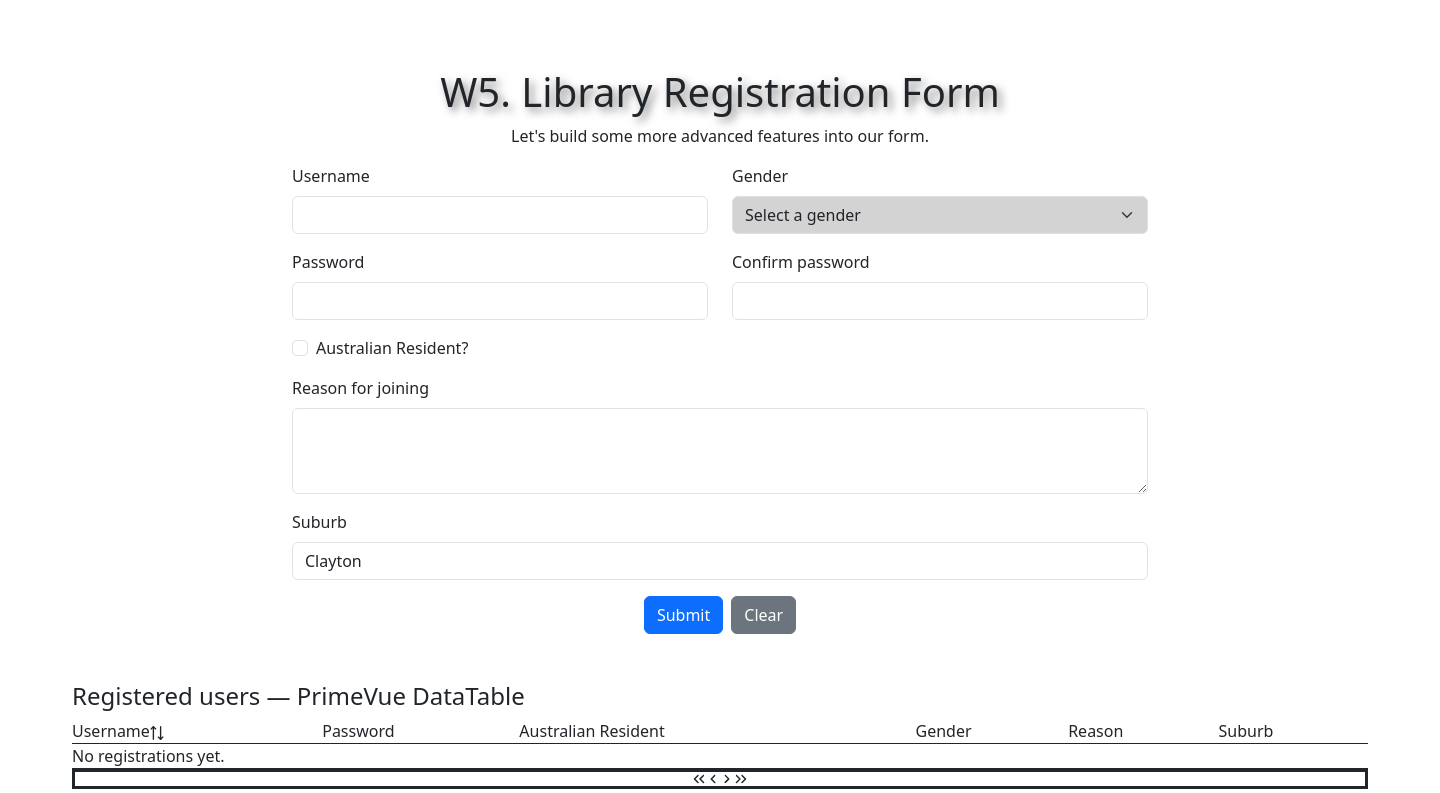
Week 5 registration behavior › blocks a mismatched confirmation on submit without requiring blur
This screenshot has width=1440, height=793.
Type "Dinuo" into the field with id "username" at (500, 215), box left=292, top=196, right=708, bottom=234
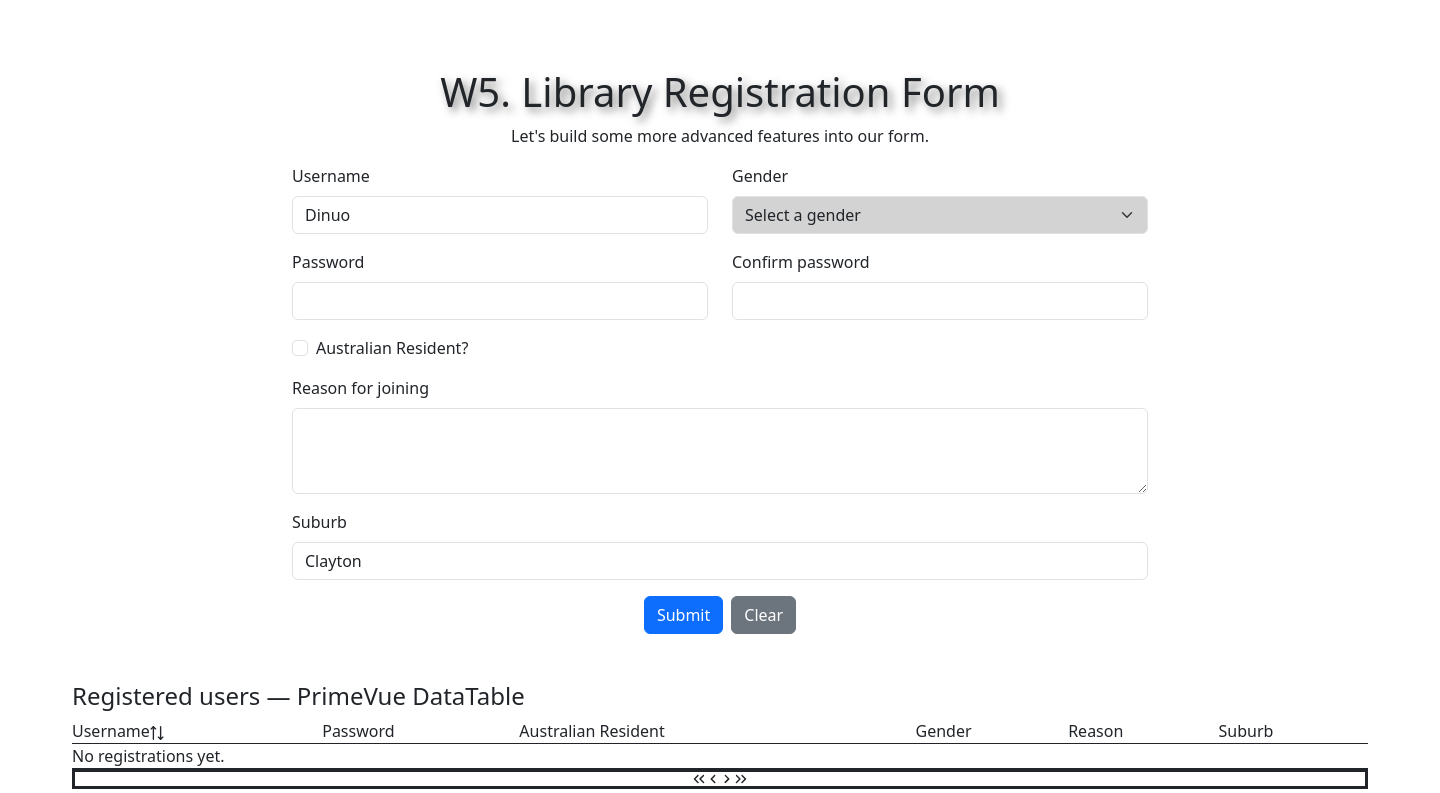
Type "Secure1!" into the password field labelled "Password" at (500, 301), box left=292, top=282, right=708, bottom=320
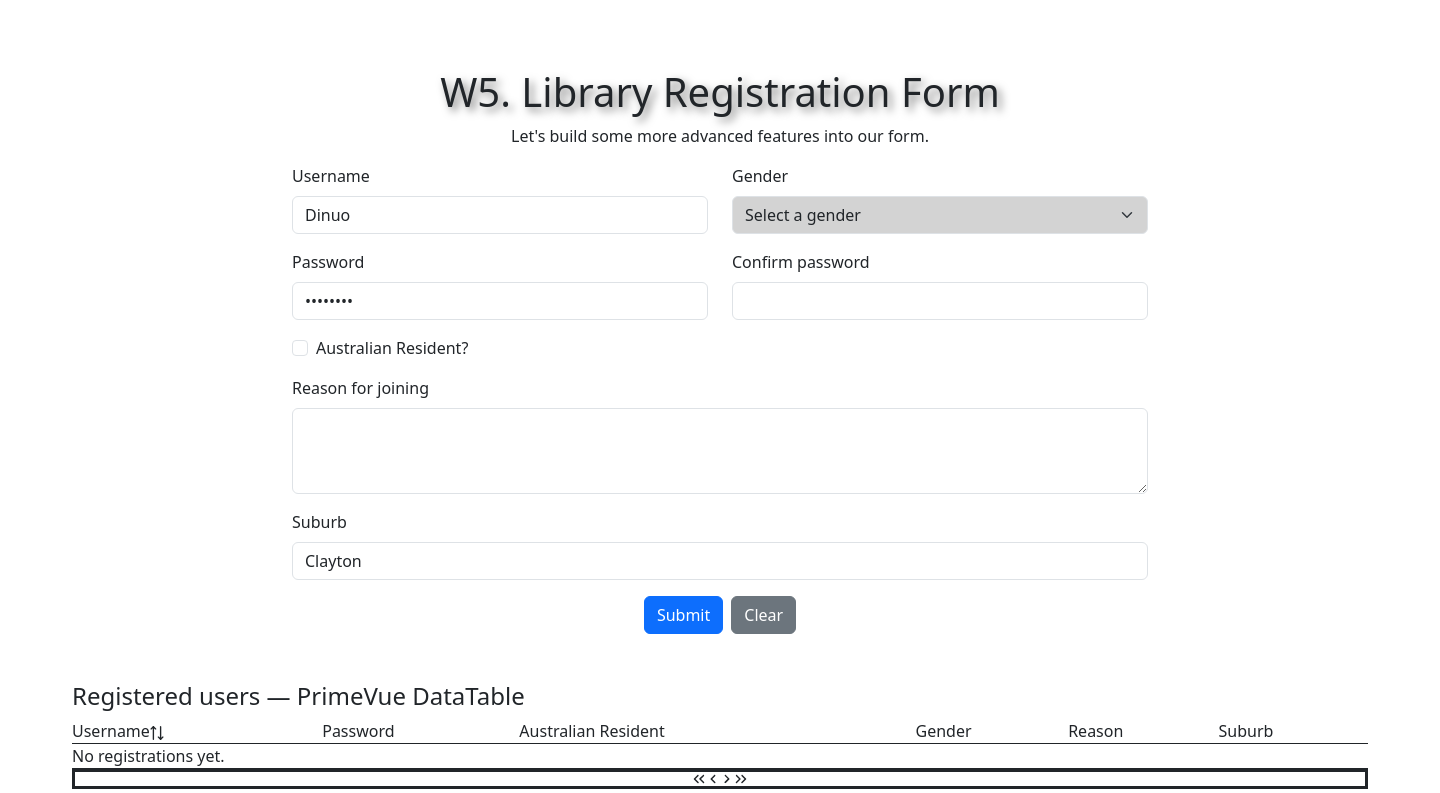
Click the checkbox with id "isAustralian" at (300, 348), box left=292, top=340, right=308, bottom=356
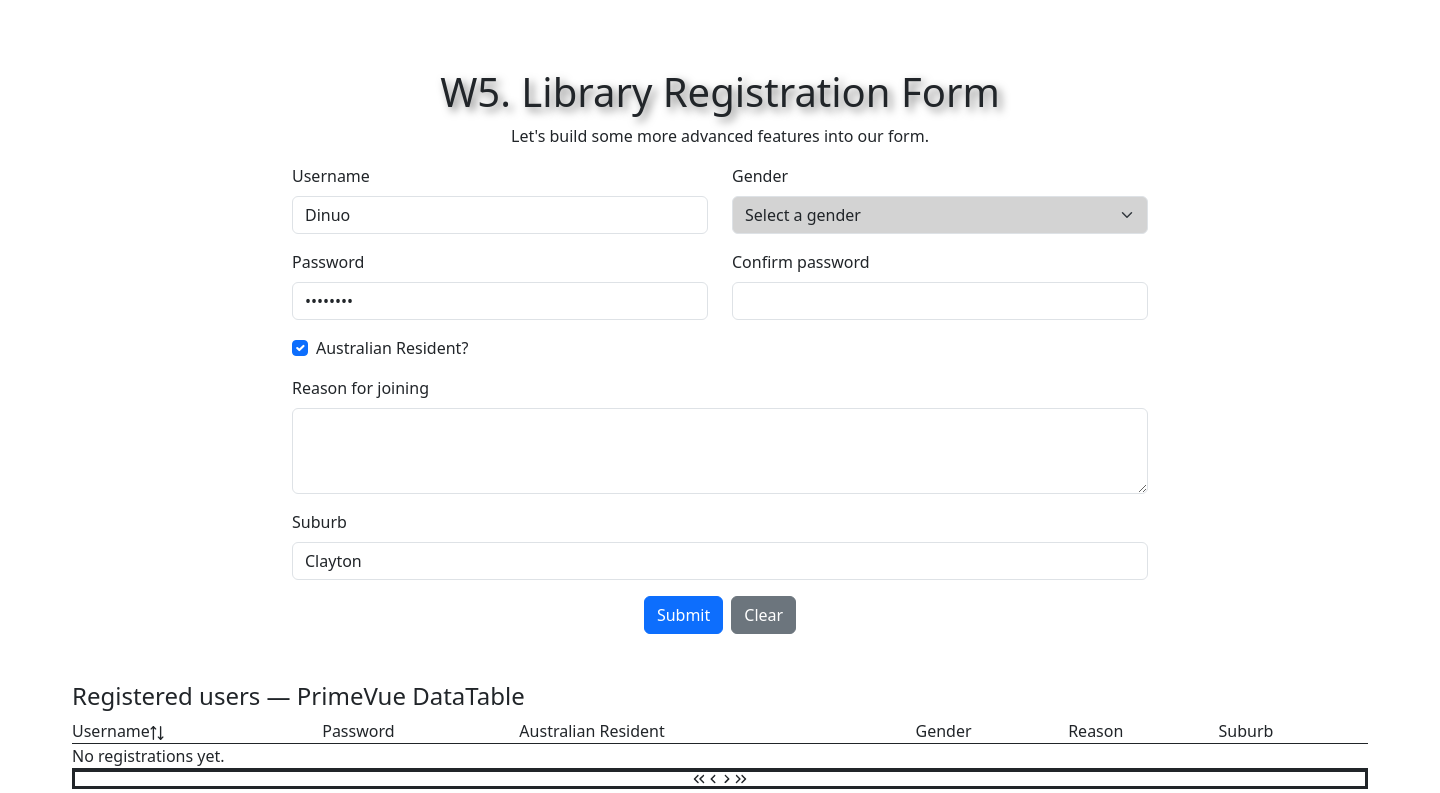
Select "Other" in the dropdown with id "gender" at (940, 215), box left=732, top=196, right=1148, bottom=234
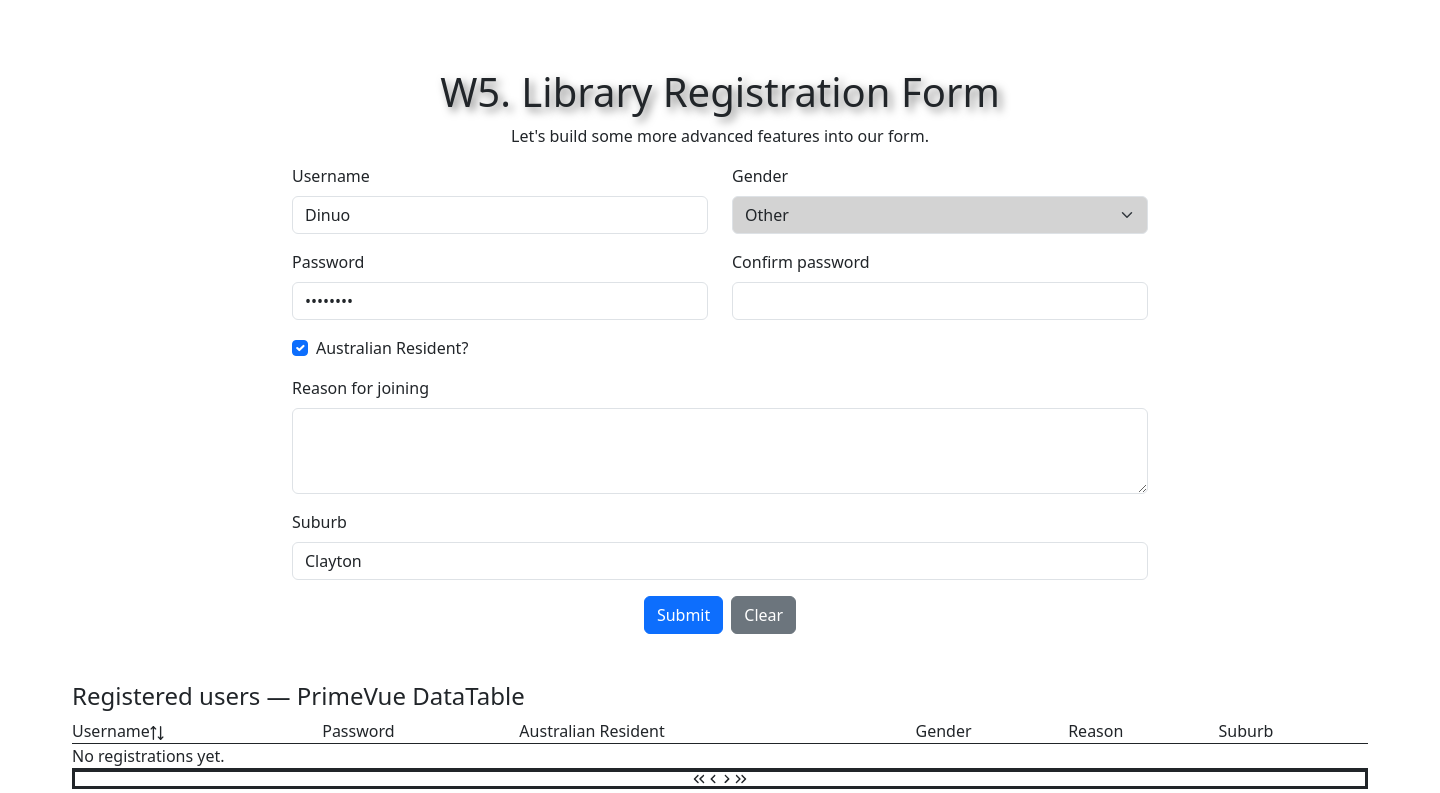
Type "I enjoy reading with a friend." into the text box with id "reason" at (720, 451), box left=292, top=408, right=1148, bottom=494
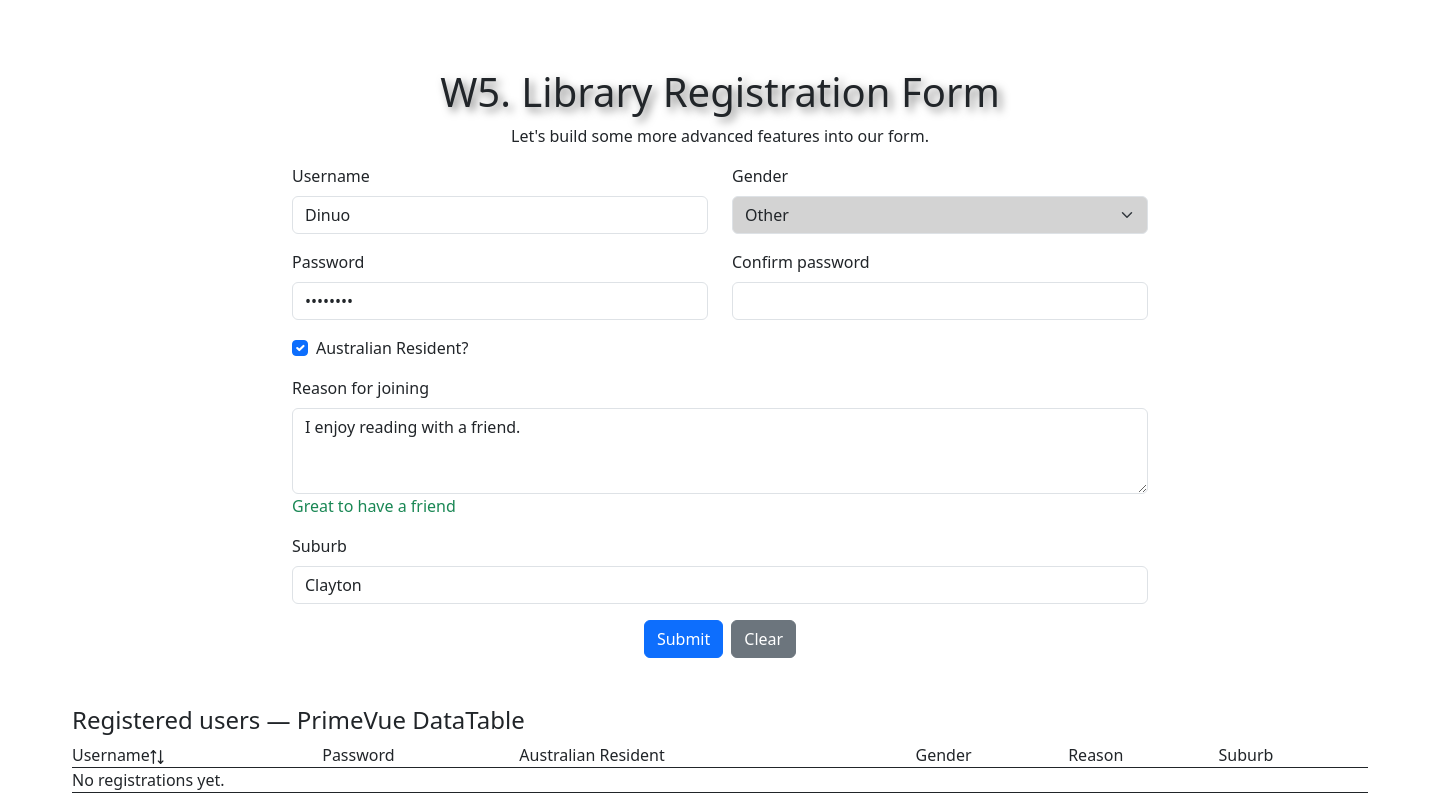
Submit the form, box left=292, top=164, right=1148, bottom=658
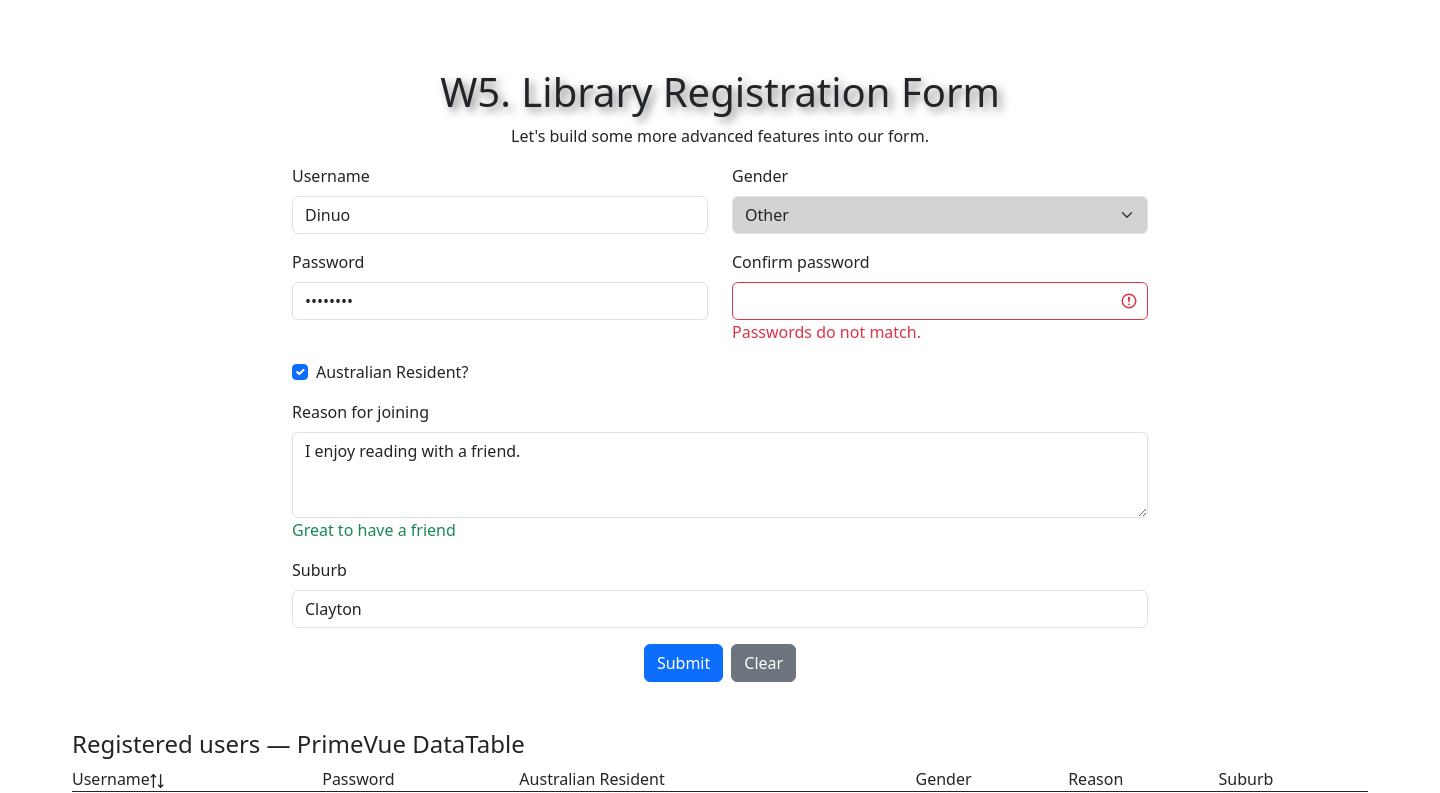
expect the text "Passwords do not match." is shown: met, box left=732, top=321, right=921, bottom=343
